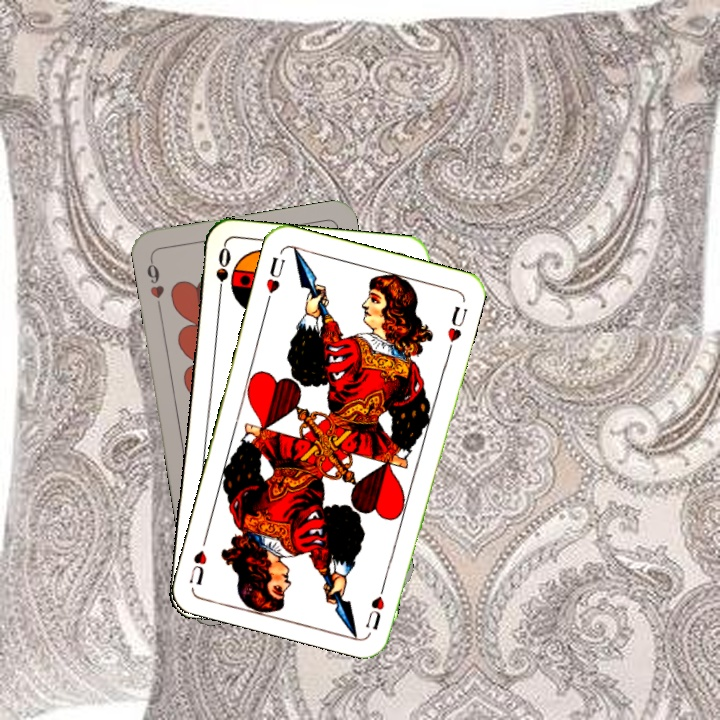H9: (143, 255, 167, 314)
HU: (361, 576, 389, 633), (262, 252, 288, 307)
SO: (212, 243, 233, 302)
